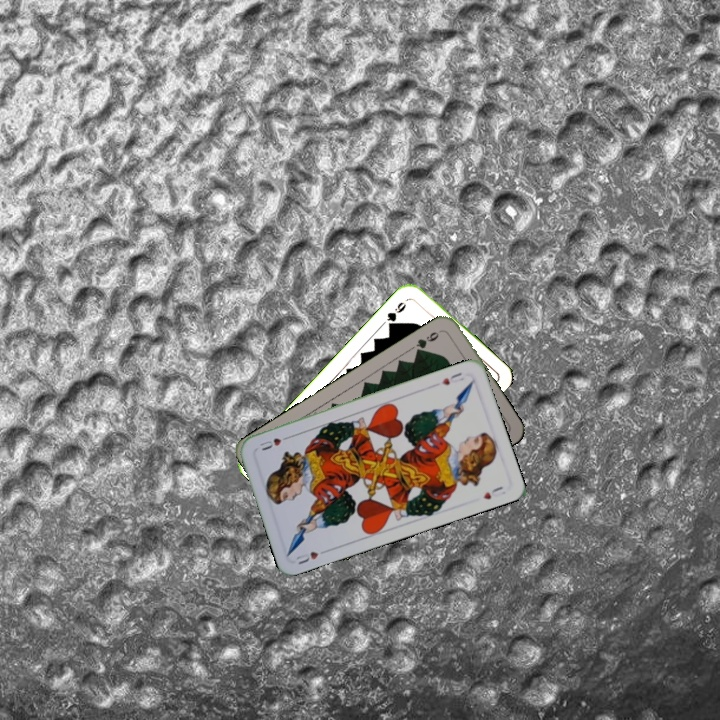G9: (382, 294, 412, 330), (411, 326, 445, 356)
HU: (292, 546, 331, 567), (437, 368, 466, 388)
